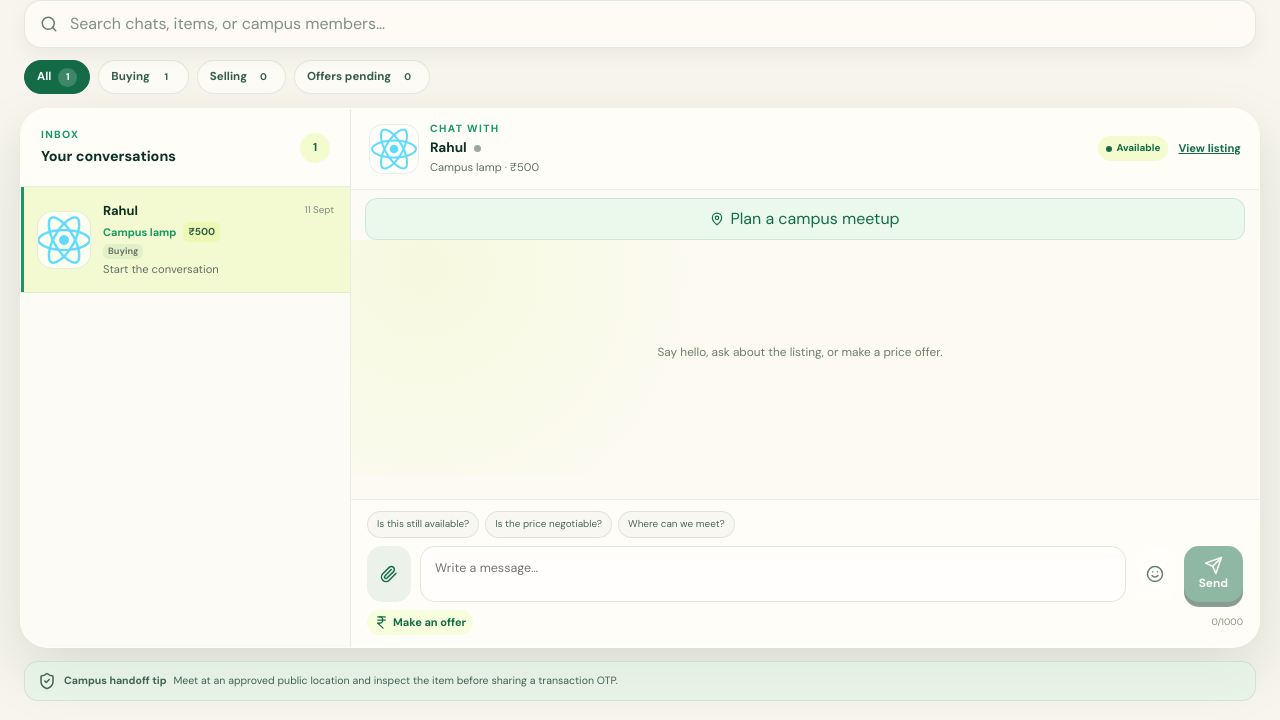
negotiation chat › searches conversations by product or participant
Step 1. Type "missing item" into the search field labelled "Search chats, items, or campus members" → (654, 24), box [68, 11, 1240, 37]
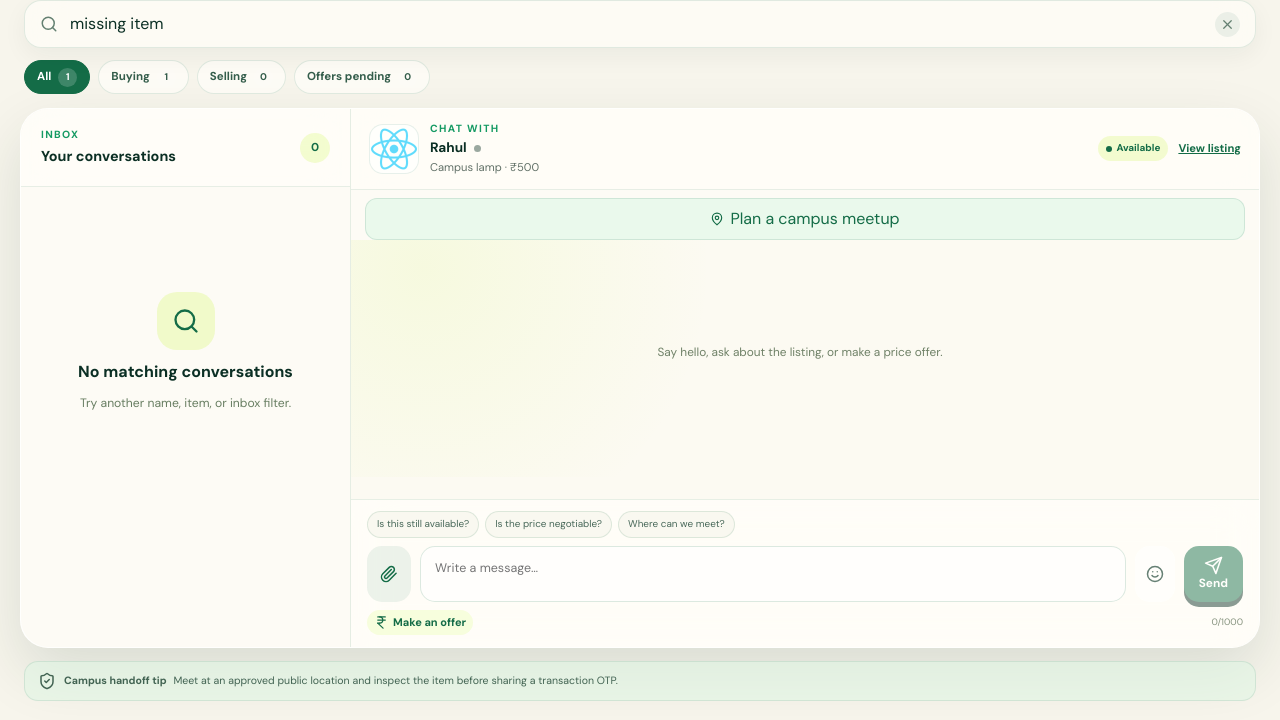
Expected: the text "No matching conversations" is shown, [78, 360, 293, 384]
Step 2. Replace the text in the search field named "Search chats, items, or campus members" with "Rahul" → (636, 24), box [68, 11, 1205, 37]
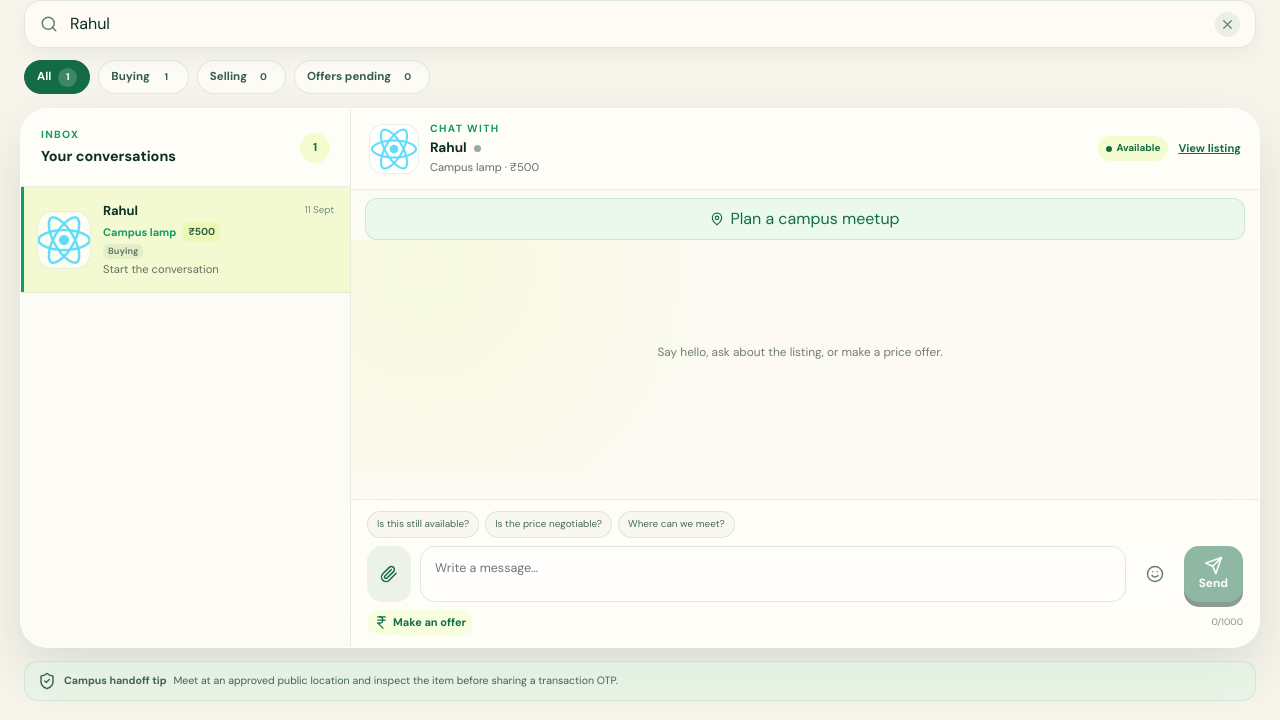
Expected: the text "Rahul" is shown, [103, 201, 138, 220]
